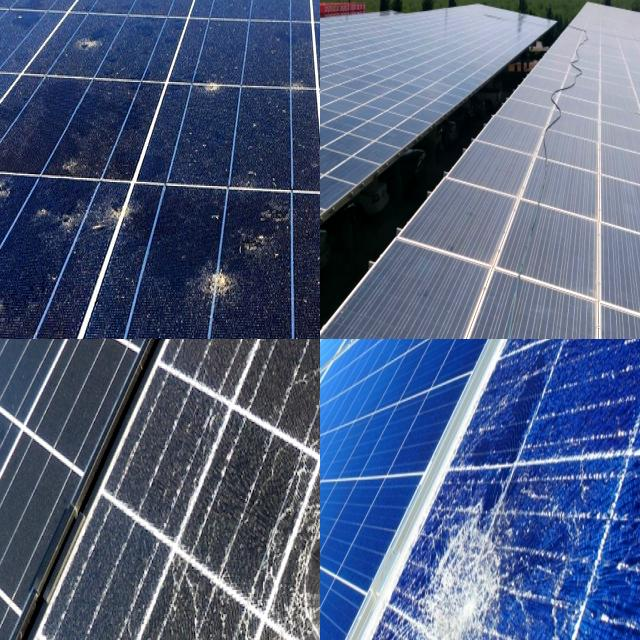bird: (50, 197, 162, 252), (0, 248, 49, 339), (172, 253, 231, 320), (239, 204, 299, 266), (49, 130, 112, 178), (0, 172, 34, 238), (277, 63, 320, 109), (64, 15, 110, 58), (198, 55, 232, 105), (306, 0, 320, 26)
dust: (516, 97, 583, 235), (498, 266, 591, 339), (608, 86, 640, 276), (574, 10, 638, 80), (442, 186, 500, 260)
hotspot: (344, 494, 540, 640)
